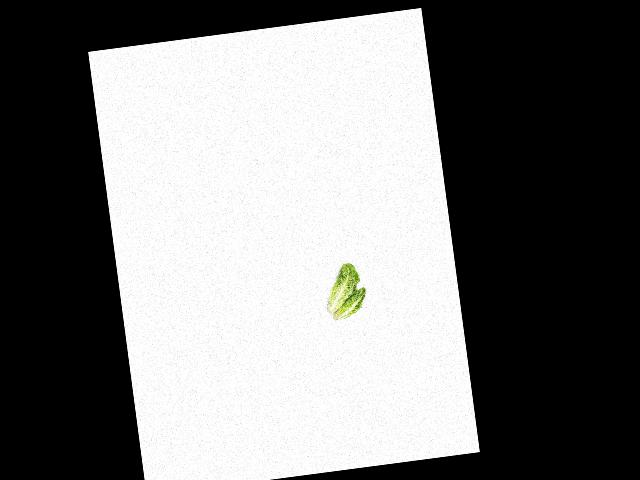lettuce: (319, 261, 364, 311)
